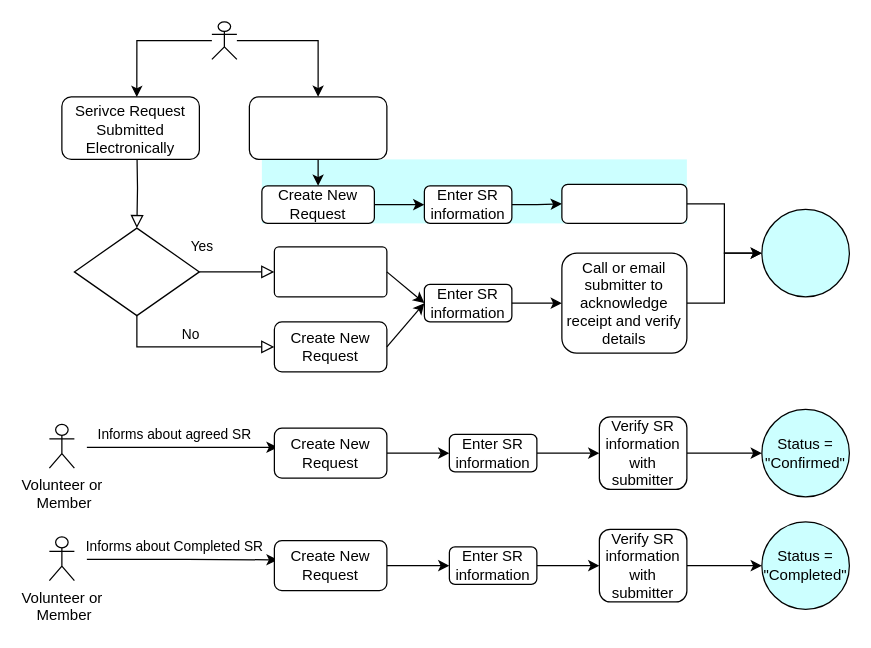
Image size: 871x648. Some labels were removed from this diagram. The box of each missing label's shape, as (x1, y1, x2, y2) in pixels:
Find Request in Undated SRs: (273, 246, 387, 297)
Member: (211, 21, 237, 59)
Serivce Request Submitted by Phone: (248, 96, 387, 159)
Status = "Requested": (761, 208, 849, 297)
Submitted from User's Profile: (73, 227, 199, 316)
Verify info with member on phone: (561, 183, 687, 223)
While Member is on the Phone: (261, 159, 686, 223)
